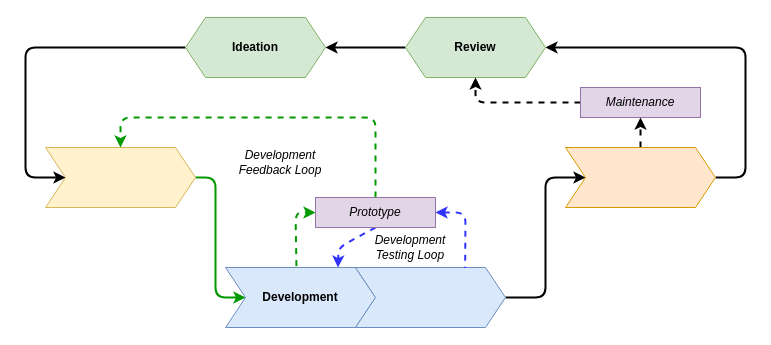
This 771x345 diagram has some shape labels left out. The centre of each missing label's shape, as x and y in pixels:
Deployment: point 640,177
Design: point 120,177
Testing: point 430,297
